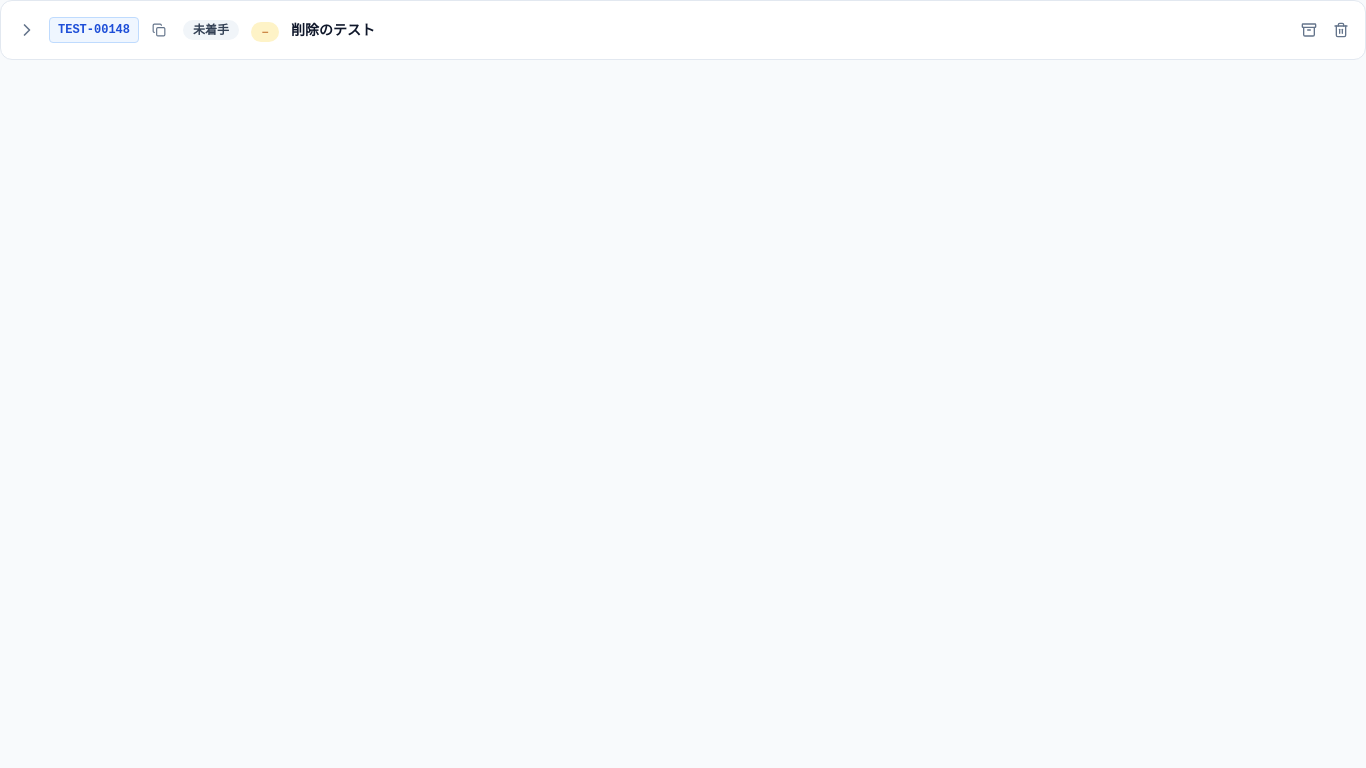
Test: TicketItem ticket deletion › opens a danger ConfirmDialog with the ticket in its message, focused on cancel
Step 1. Click the button named "チケットを削除: TEST-00148 削除のテスト" → {"x": 1341, "y": 30}, box top-left (1329, 18), bottom-right (1353, 42)
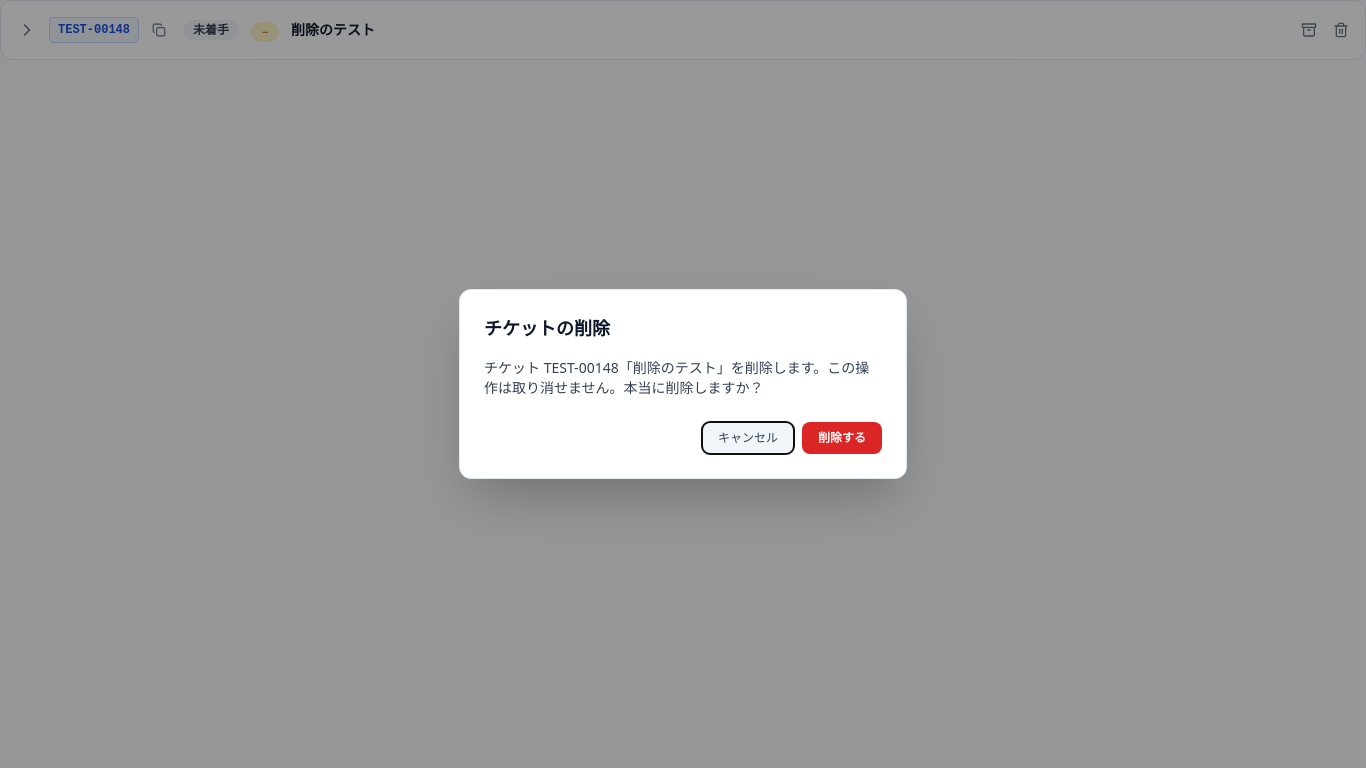
expect the button with test id "ticket-delete-confirm-confirm" reads "削除する": met, box top-left (802, 422), bottom-right (882, 454)
